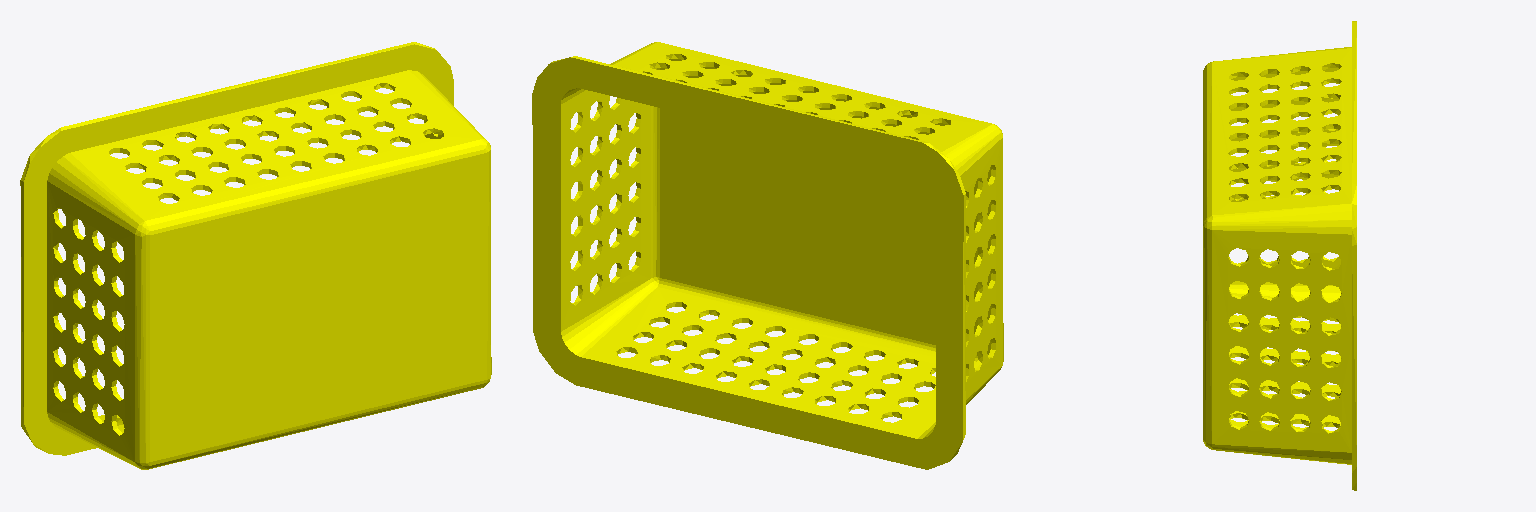
robot.urdf — basket:
<?xml version="1.0"?>
<robot name="basket">
<link name="basket_base_link">
  <inertial>
    <mass value="1.0"/>
    <origin xyz="0 0 0" rpy="0 0 0"/>
    <inertia ixx="0.01" ixy="0" ixz="0" iyy="0.01" iyz="0" izz="0.01"/>
  </inertial>

  <visual>
    <origin xyz="0.125 -0.075 1.025" rpy="0 0 0"/>
    <geometry>
      <mesh filename="package://meshes/basket.dae" scale="1 1 1"/>
    </geometry>
    <material name="material_name">
      <color rgba="1.0 1.0 0.0 1.0"/>
    </material>
  </visual>

  <collision>
    <origin xyz="0.125 -0.075 1.025" rpy="0 0 0"/>
    <geometry>
      <mesh filename="package://meshes/basket.dae" scale="1 1 1"/> 
      
      </geometry>
  </collision>
</link>
</robot>

--- Render facts (derived) ---
3 views of the same robot in one strip: view 1: azimuth 30°, elevation 25°; view 2: azimuth 150°, elevation 25°; view 3: azimuth 270°, elevation 25° (orthographic).
Robot: basket — 1 links, 0 joints (none); root link basket_base_link; default pose: every joint at zero.
Visible links, largest first — view 1: basket_base_link; view 2: basket_base_link; view 3: basket_base_link.
Link boxes in pixels (x1,y1,x2,y2): basket_base_link: (20,42,491,469); basket_base_link: (532,42,1003,469); basket_base_link: (1203,21,1356,490).
Bounding box of the posed robot: 0.1823 × 0.06 × 0.1323 m (x, y, z).
Meshes: 1 distinct files referenced, 1 mesh visuals loaded (1 Collada DAE).
